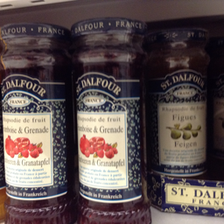jam: (72, 19, 151, 224), (1, 24, 72, 223), (146, 28, 209, 178)
